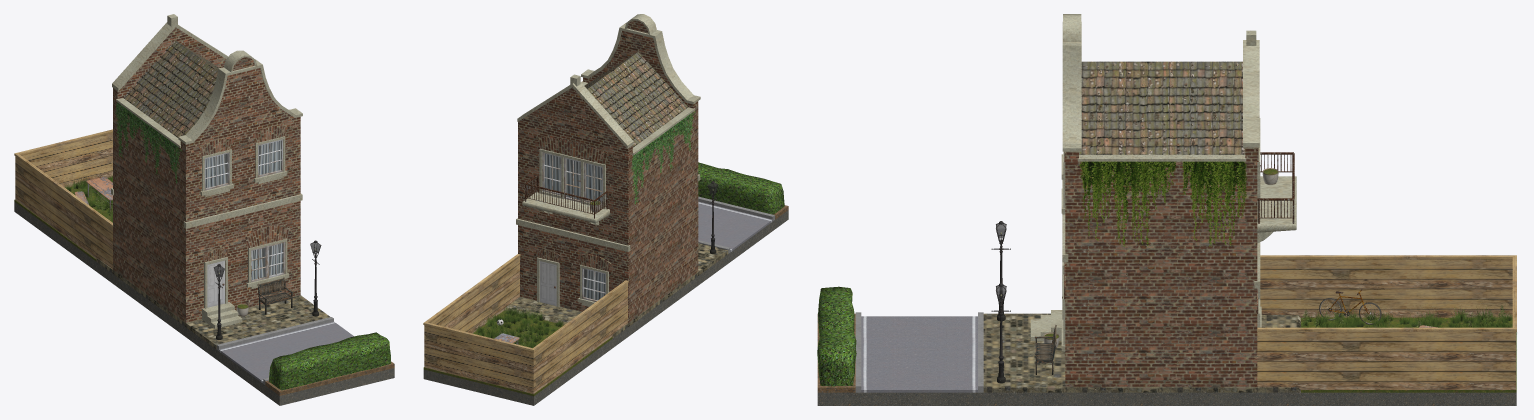
3 renders of one model, left to right at view 1: azimuth 30°, elevation 25°; view 2: azimuth 150°, elevation 25°; view 3: azimuth 270°, elevation 25°, orthographic. The views are drawn at different scales.
Parts seen in each view (by area): view 1: SM_House, SM_Fence, SM_Bush, SM_Ground, SM_Tiles, SM_Road, SM_Window3, SM_Door1, SM_Window2, SM_Vine1, SM_Window1, SM_Dirt (+5 smaller); view 2: SM_House, SM_Fence, SM_Balcony, SM_Ground, SM_Bush, SM_Road, SM_Tiles, SM_PlantsPlane, SM_Grass, SM_Vine1, SM_Window4, SM_Door2 (+1 smaller); view 3: SM_House, SM_Fence, SM_Ground, SM_Road, SM_Vine2, SM_Tiles, SM_Bush, SM_Balcony, SM_PlantsPlane, SM_Grass, SM_Door1.
Part boxes in pixels (x1=…): SM_House: x1=111, y1=14, x2=302, y2=322; SM_Fence: x1=14, y1=129, x2=112, y2=268; SM_Bush: x1=269, y1=332, x2=390, y2=390; SM_Ground: x1=14, y1=202, x2=394, y2=405; SM_Tiles: x1=96, y1=258, x2=329, y2=349; SM_Road: x1=219, y1=321, x2=353, y2=383; SM_Window3: x1=245, y1=225, x2=289, y2=288; SM_Door1: x1=202, y1=248, x2=242, y2=328; SM_Window2: x1=253, y1=125, x2=287, y2=183; SM_Vine1: x1=115, y1=102, x2=182, y2=183; SM_Window1: x1=199, y1=138, x2=233, y2=197; SM_Dirt: x1=265, y1=361, x2=394, y2=395; SM_House: x1=516, y1=14, x2=700, y2=323; SM_Fence: x1=423, y1=254, x2=628, y2=393; SM_Balcony: x1=522, y1=137, x2=609, y2=225; SM_Ground: x1=423, y1=210, x2=788, y2=405; SM_Bush: x1=698, y1=162, x2=784, y2=214; SM_Road: x1=698, y1=201, x2=772, y2=252; SM_Tiles: x1=504, y1=243, x2=728, y2=338; SM_PlantsPlane: x1=473, y1=307, x2=563, y2=347; SM_Grass: x1=423, y1=310, x2=612, y2=396; SM_Vine1: x1=631, y1=111, x2=695, y2=204; SM_Window4: x1=578, y1=254, x2=611, y2=306; SM_Door2: x1=536, y1=249, x2=561, y2=307; SM_House: x1=1062, y1=14, x2=1260, y2=387; SM_Fence: x1=1257, y1=255, x2=1516, y2=389; SM_Ground: x1=817, y1=392, x2=1516, y2=405; SM_Road: x1=861, y1=316, x2=977, y2=392; SM_Vine2: x1=1079, y1=161, x2=1247, y2=246; SM_Tiles: x1=983, y1=313, x2=1300, y2=392; SM_Bush: x1=817, y1=286, x2=856, y2=386; SM_Balcony: x1=1257, y1=118, x2=1296, y2=242; SM_PlantsPlane: x1=1300, y1=305, x2=1516, y2=334; SM_Grass: x1=1301, y1=317, x2=1516, y2=392; SM_Door1: x1=1030, y1=262, x2=1064, y2=341.
Size of the model in its own units: 6.18 by 13.38 by 24.12.
Materials: 25 (25 with a texture image).
